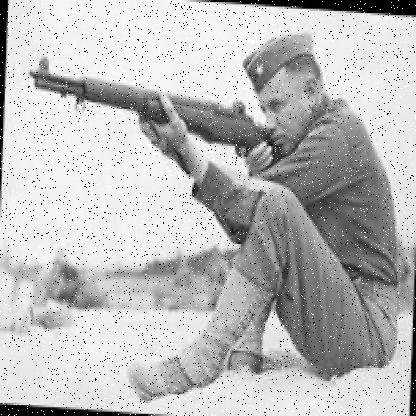rifle: (22, 48, 288, 176)
